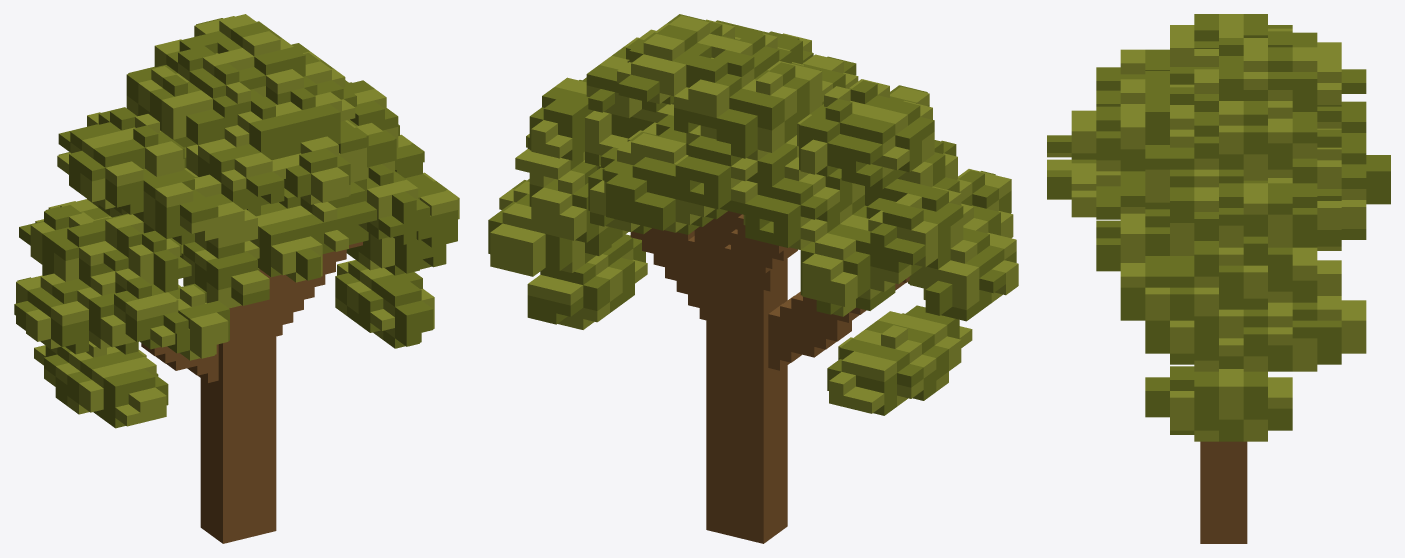
The model's file is SM_DC_Tree_Third.fbx.
3 renders of one model, left to right at view 1: azimuth 30°, elevation 25°; view 2: azimuth 150°, elevation 25°; view 3: azimuth 270°, elevation 25°, orthographic. The views are drawn at different scales.
Visible parts, largest first — view 1: SM_DC_Tree_Third; view 2: SM_DC_Tree_Third; view 3: SM_DC_Tree_Third.
Boxes of the visible parts, box(x1,y1,x2,y2) form: SM_DC_Tree_Third: box(14, 14, 459, 543); SM_DC_Tree_Third: box(488, 14, 1018, 543); SM_DC_Tree_Third: box(1047, 14, 1390, 543).
Size of the model in its own units: 3.3 by 2.2 by 3.5.
